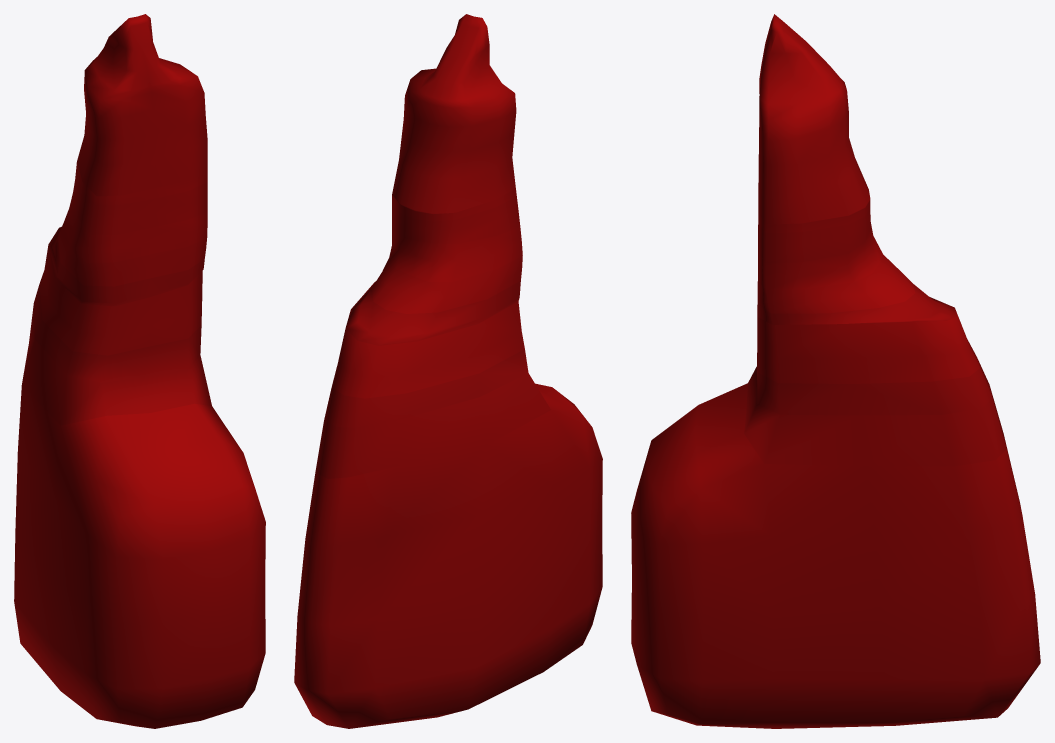
The model's file is geology-landforms-sandstonemesa_v4.fbx.
The picture shows the model from 3 angles, left to right: view 1: azimuth 30°, elevation 25°; view 2: azimuth 150°, elevation 25°; view 3: azimuth 270°, elevation 25°; orthographic projection. The views are drawn at different scales.
Parts seen in each view (by area): view 1: SandstoneMesa_v4; view 2: SandstoneMesa_v4; view 3: SandstoneMesa_v4.
Boxes of the visible parts, x1,y1,x2,y2 form: SandstoneMesa_v4: (14, 14, 265, 728); SandstoneMesa_v4: (294, 14, 602, 728); SandstoneMesa_v4: (631, 14, 1040, 728).
Size of the model in its own units: 14.21 by 56.46 by 30.05.
